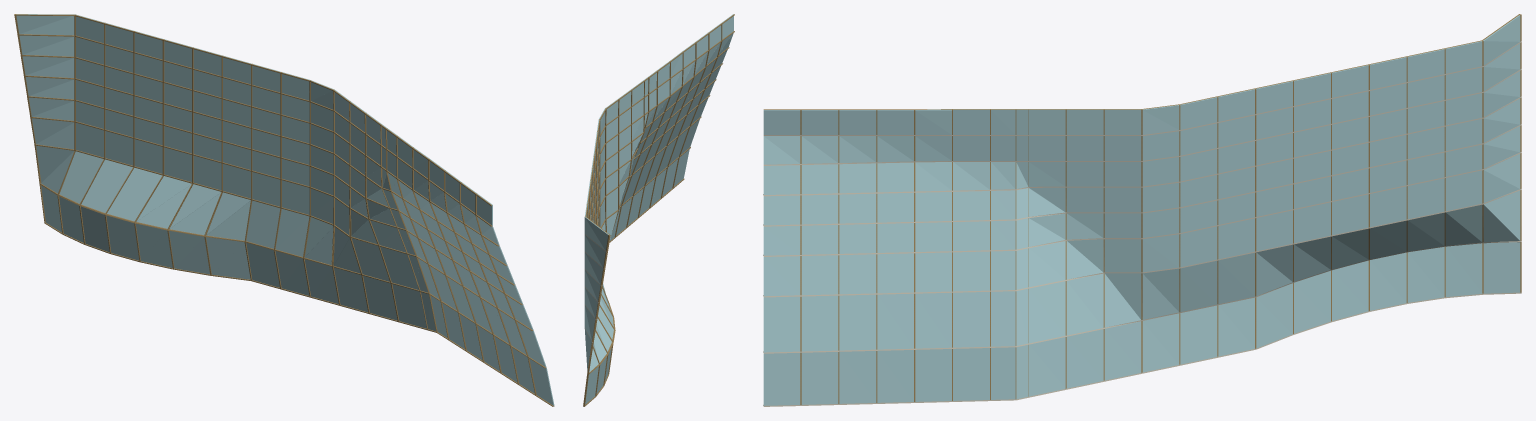
The model's file is G7_Completion_R005B_Body_1_00.glb.
3 views of the same model, side by side, from view 1: azimuth 30°, elevation 25°; view 2: azimuth 150°, elevation 25°; view 3: azimuth 270°, elevation 25° (orthographic). The views are drawn at different scales.
Visible parts, largest first — view 1: Body_1_00_G7C3_glass_solid_skin, Body_1_00_G7C3_metal_solid_frame; view 2: Body_1_00_G7C3_glass_solid_skin, Body_1_00_G7C3_metal_solid_frame, Body_1_00_G7C3_metal_solid_skin; view 3: Body_1_00_G7C3_glass_solid_skin, Body_1_00_G7C3_shell_solid_skin, Body_1_00_G7C3_metal_solid_skin, Body_1_00_G7C3_metal_solid_frame.
Boxes of the visible parts, <box> form: Body_1_00_G7C3_glass_solid_skin: <box>16,14,554,405</box>; Body_1_00_G7C3_metal_solid_frame: <box>14,14,553,406</box>; Body_1_00_G7C3_glass_solid_skin: <box>584,14,733,404</box>; Body_1_00_G7C3_metal_solid_frame: <box>583,14,734,406</box>; Body_1_00_G7C3_metal_solid_skin: <box>583,32,708,405</box>; Body_1_00_G7C3_glass_solid_skin: <box>763,15,1520,405</box>; Body_1_00_G7C3_shell_solid_skin: <box>763,41,1521,406</box>; Body_1_00_G7C3_metal_solid_skin: <box>800,14,1521,404</box>; Body_1_00_G7C3_metal_solid_frame: <box>763,14,1519,405</box>.
Bounding box in the file's own units: 49.67 × 45.5 × 120.
3 materials, 2 textured.
